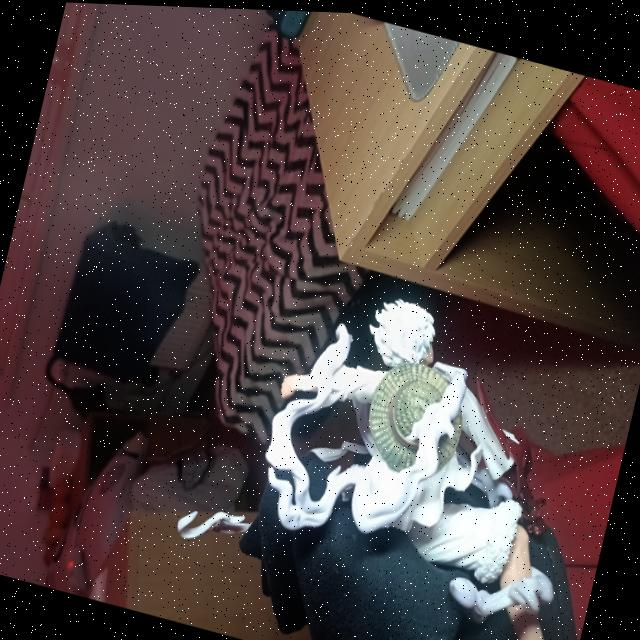luffy: (149, 243, 640, 640)
